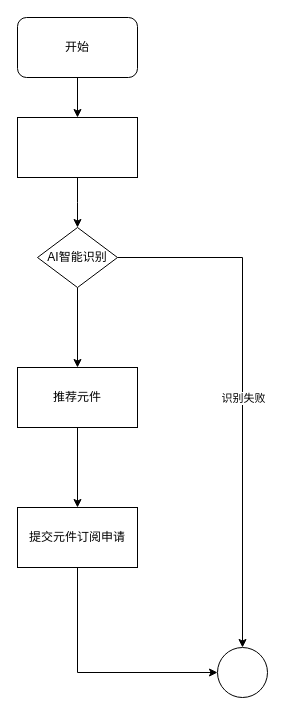
The diagram is 285 pixels wide and 715 high, and some of its shapes have lost their labels. The centre of each missing label's shape, as x and y in pixels:
"用户输入" belongs at (77,147).
"结束" belongs at (242,672).
